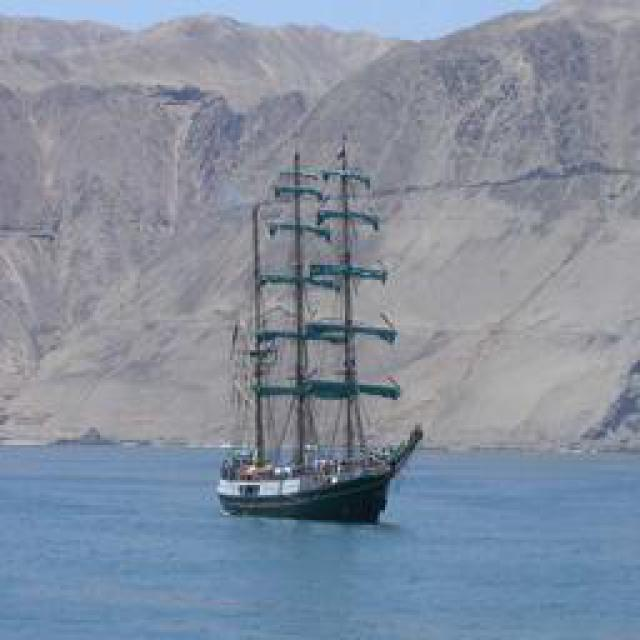Ship: (219, 126, 422, 526)
